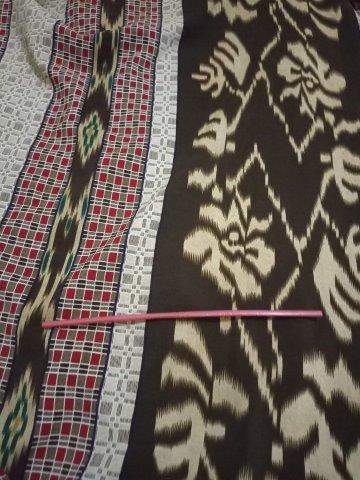sedotan: (43, 310, 322, 328)
